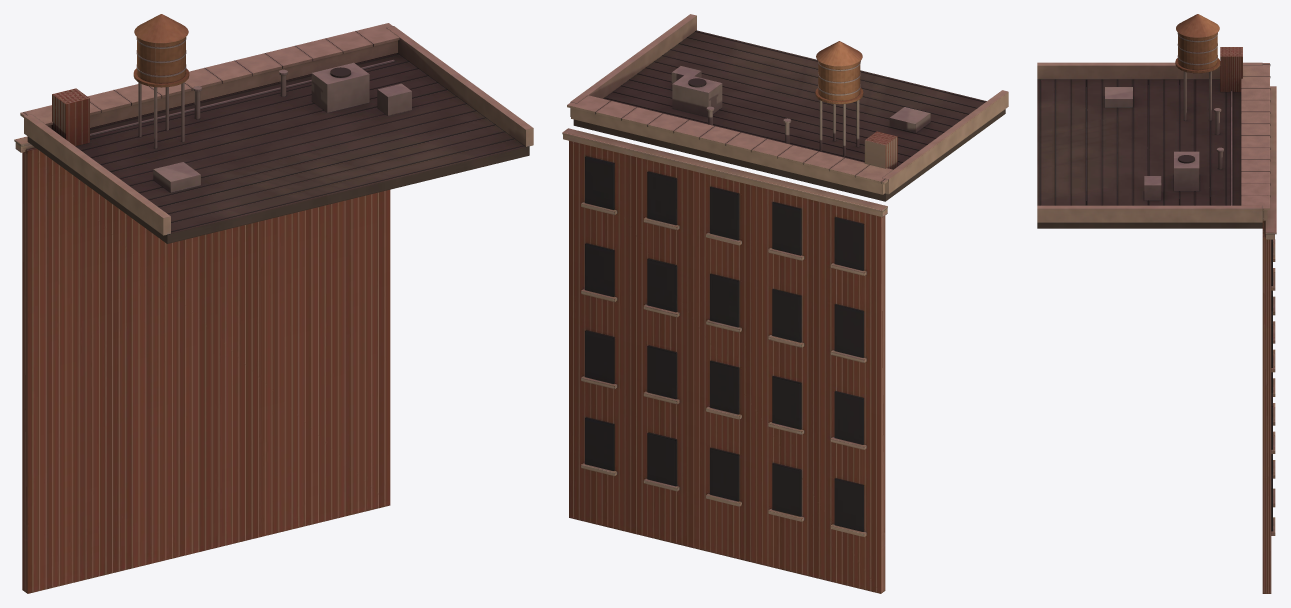
Rendered from rooftop.glb.
3 views of the same model, side by side, from view 1: azimuth 30°, elevation 25°; view 2: azimuth 150°, elevation 25°; view 3: azimuth 270°, elevation 25° (orthographic). The views are drawn at different scales.
Parts seen in each view (by area): view 1: facade, deck, ledge, props; view 2: facade, deck, ledge, props; view 3: deck, facade, props, ledge.
Boxes of the visible parts, <box> form: facade: <box>14,136,390,593</box>; deck: <box>24,26,533,243</box>; ledge: <box>20,23,399,128</box>; props: <box>133,14,411,148</box>; facade: <box>562,128,887,593</box>; deck: <box>570,14,1008,201</box>; ledge: <box>567,95,892,194</box>; props: <box>671,41,863,156</box>; deck: <box>1037,47,1262,228</box>; facade: <box>1262,86,1276,593</box>; props: <box>1144,14,1223,200</box>; ledge: <box>1241,63,1270,220</box>.
Bounding box in the file's own units: 12.3 × 18.53 × 8.5.
4 materials, 4 textured.
